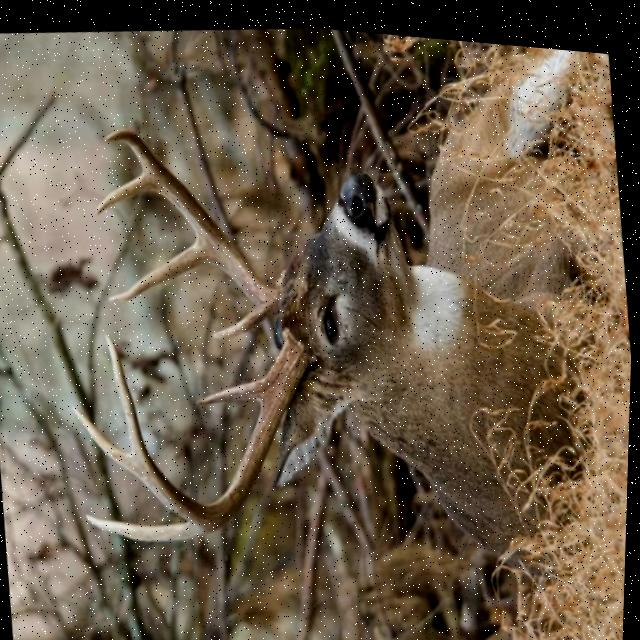L-F: (104, 124, 284, 308)
L-G1: (214, 296, 274, 334)
L-G2: (110, 228, 216, 298)
L-G3: (96, 166, 158, 212)
R-F: (106, 320, 319, 528)
R-G1: (197, 362, 273, 405)
R-G2: (88, 511, 208, 538)
R-G3: (74, 403, 145, 478)
